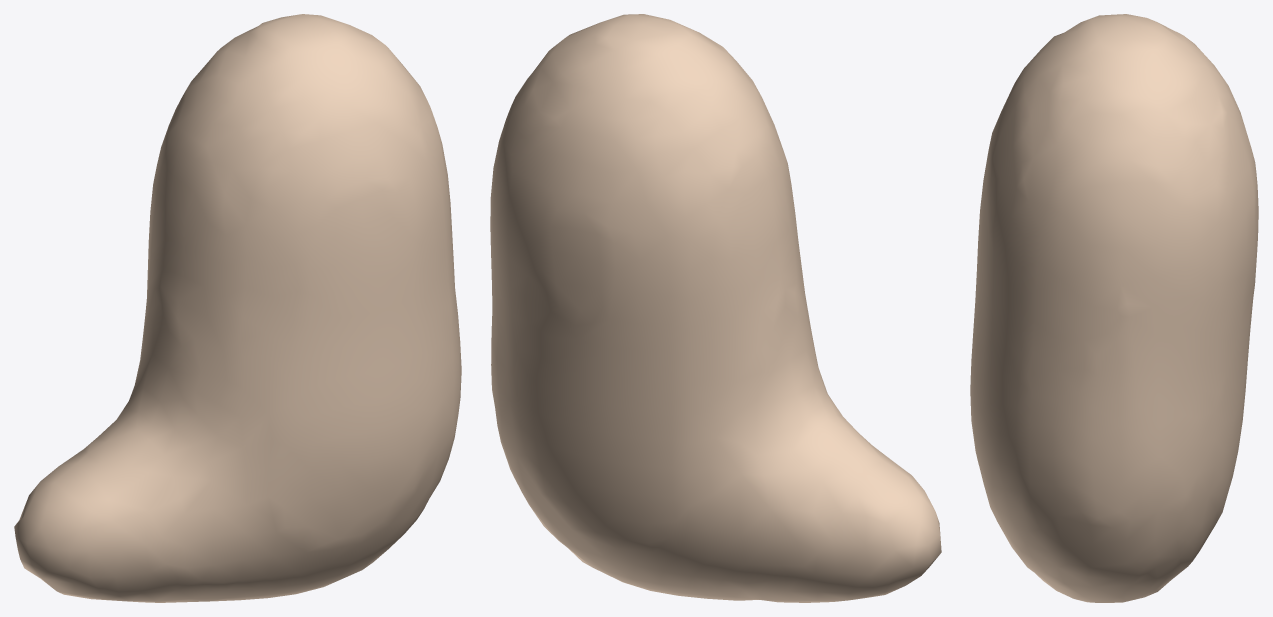
The model's file is organ-stomach.glb.
3 renders of one model, left to right at view 1: azimuth 30°, elevation 25°; view 2: azimuth 150°, elevation 25°; view 3: azimuth 270°, elevation 25°, orthographic. The views are drawn at different scales.
Parts seen in each view (by area): view 1: world; view 2: world; view 3: world.
Part boxes in pixels (bbox=[...]): world: bbox=[14, 14, 461, 602]; world: bbox=[490, 14, 941, 602]; world: bbox=[970, 14, 1258, 602].
Size of the model in its own units: 0.1854 by 0.2293 by 0.1055.
